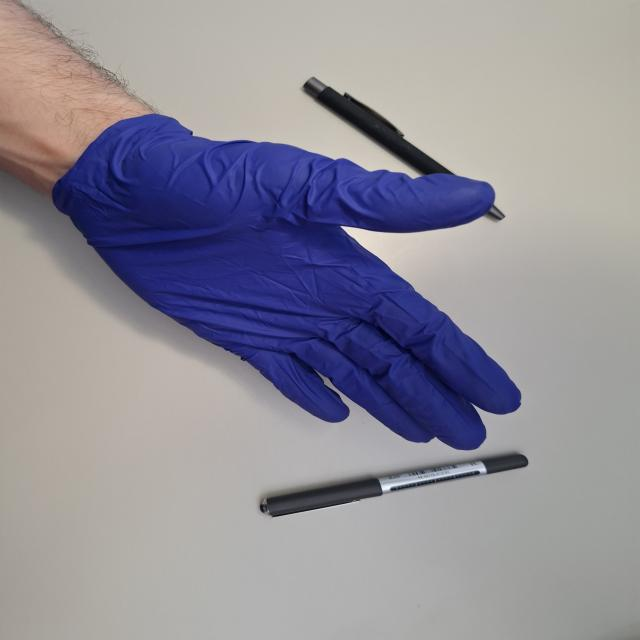glove_on: (46, 109, 526, 454)
